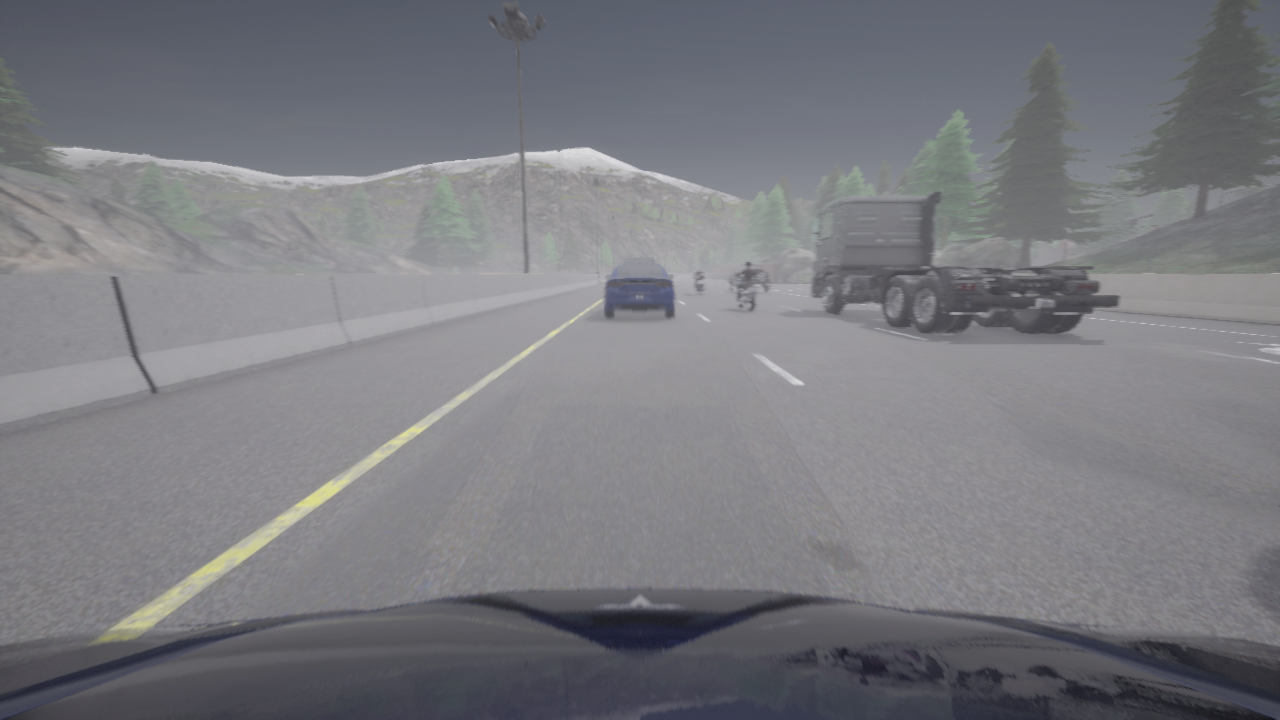cyclist: (0, 588, 1279, 719), (810, 190, 1119, 333), (605, 263, 674, 317), (728, 263, 771, 292), (735, 271, 759, 311), (691, 273, 706, 295), (622, 258, 657, 263), (1278, 505, 1279, 506)
